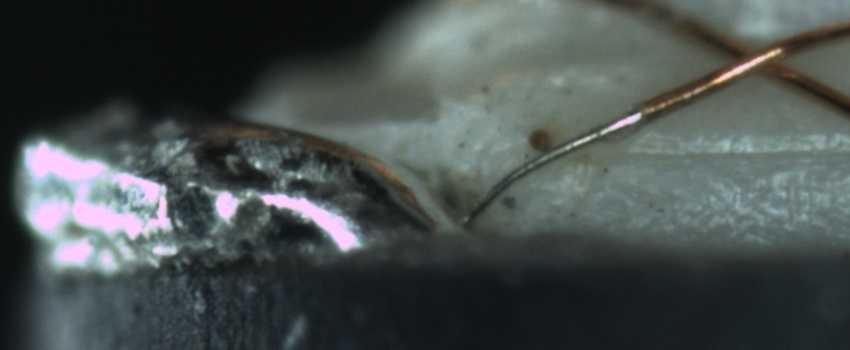CL: (705, 25, 807, 89)
DL: (617, 125, 850, 179)
TS: (462, 107, 645, 230)
TTCW: (463, 84, 681, 230)
